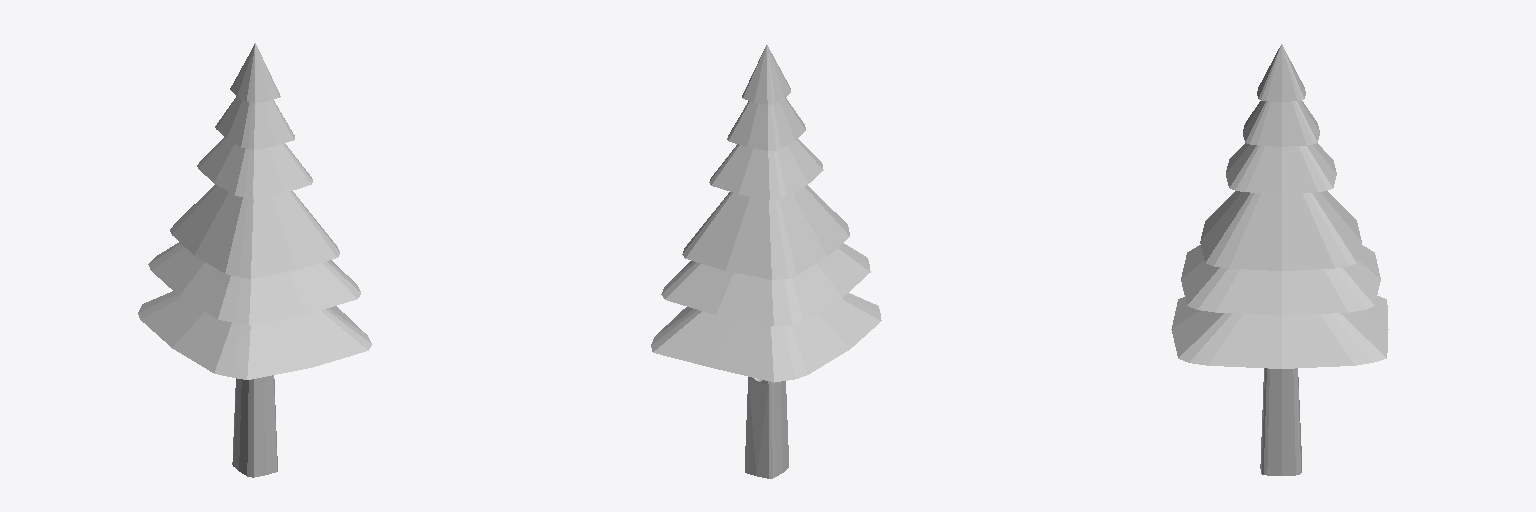
File: Tree Verison 2.obj
3 renders of one model, left to right at view 1: azimuth 30°, elevation 25°; view 2: azimuth 150°, elevation 25°; view 3: azimuth 270°, elevation 25°, orthographic.
Parts seen in each view (by area): view 1: Cube.001_Cube.000; view 2: Cube.001_Cube.000; view 3: Cube.001_Cube.000.
Part boxes in pixels (bbox=[...]): Cube.001_Cube.000: bbox=[138, 43, 371, 477]; Cube.001_Cube.000: bbox=[651, 45, 881, 478]; Cube.001_Cube.000: bbox=[1171, 44, 1388, 475].
Size of the model in its own units: 1.97 by 4.8 by 2.22.